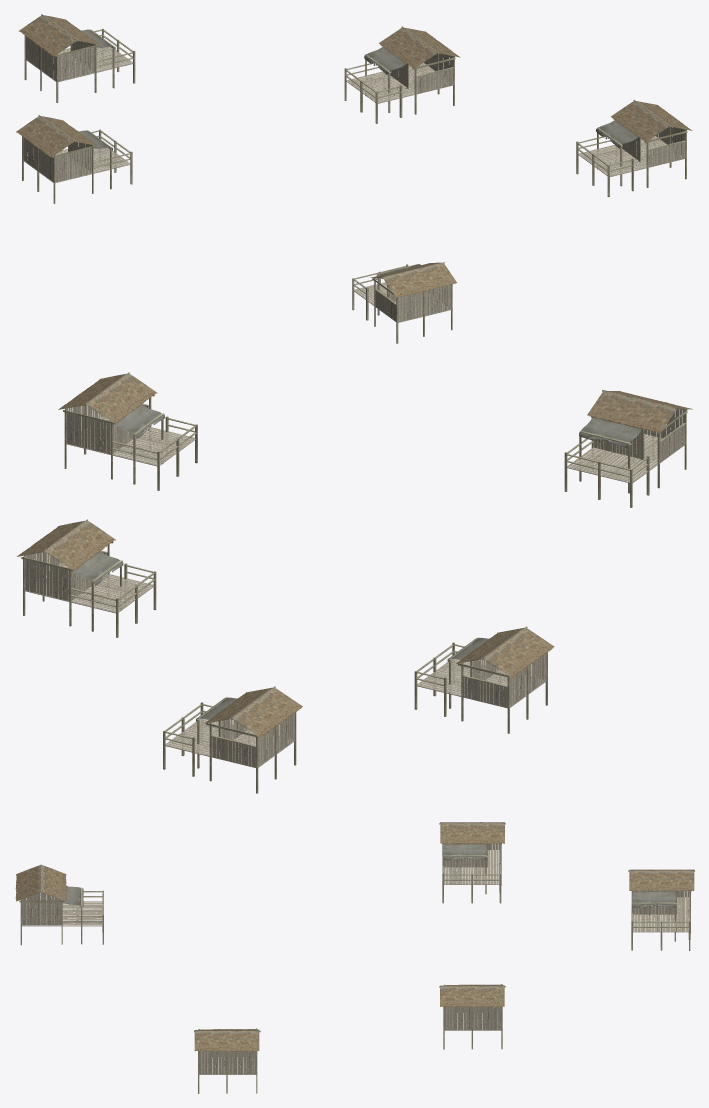
The model's file is coast-1-1.glb.
3 renders of one model, top to bottom at view 1: azimuth 30°, elevation 25°; view 2: azimuth 150°, elevation 25°; view 3: azimuth 270°, elevation 25°, orthographic. The views are drawn at different scales.
Parts seen in each view (by area): view 1: coast-1-1; view 2: coast-1-1; view 3: coast-1-1.
Part boxes in pixels (x1,y1,x2,y2): coast-1-1: [16, 14, 692, 343]; coast-1-1: [17, 372, 692, 793]; coast-1-1: [15, 822, 694, 1093].
Size of the model in its own units: 77.85 by 8.62 by 97.17.
20 materials, 20 textured.
